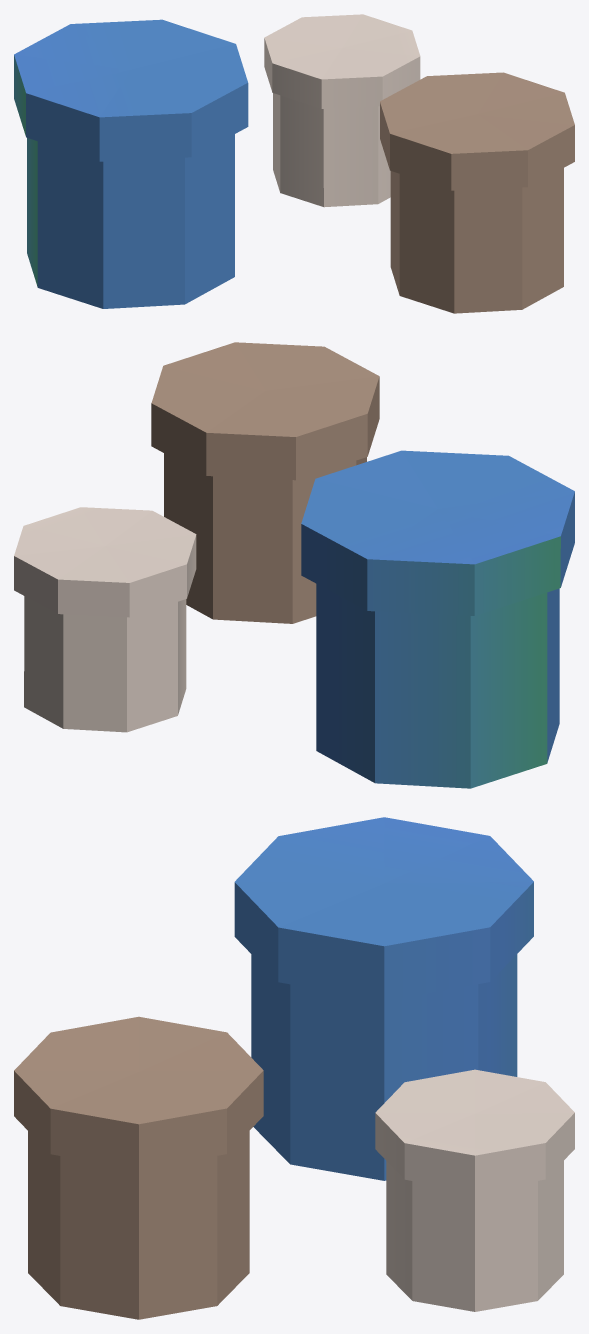
Rendered from Living_Room_boxes.fbx.
3 views of the same model, one above another, from view 1: azimuth 30°, elevation 25°; view 2: azimuth 150°, elevation 25°; view 3: azimuth 270°, elevation 25° (orthographic). The views are drawn at different scales.
Parts seen in each view (by area): view 1: Living_Room_boxes; view 2: Living_Room_boxes; view 3: Living_Room_boxes.
Boxes of the visible parts, x1=… form: Living_Room_boxes: x1=14, y1=14, x2=574, y2=313; Living_Room_boxes: x1=14, y1=342, x2=574, y2=788; Living_Room_boxes: x1=14, y1=817, x2=574, y2=1319.
Bounding box in the file's own units: 30.24 × 13.01 × 27.05.
